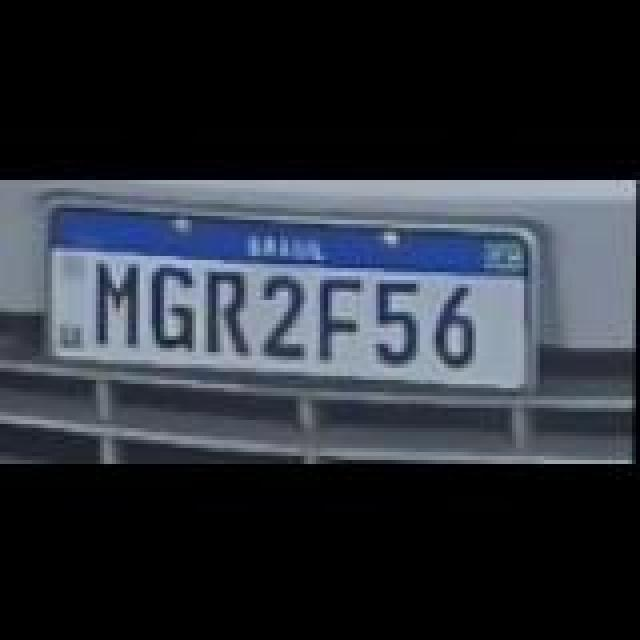2: (264, 274, 312, 358)
5: (382, 278, 426, 362)
6: (436, 282, 476, 366)
F: (322, 274, 366, 358)
G: (152, 262, 200, 346)
M: (98, 256, 142, 344)
R: (210, 270, 254, 354)
